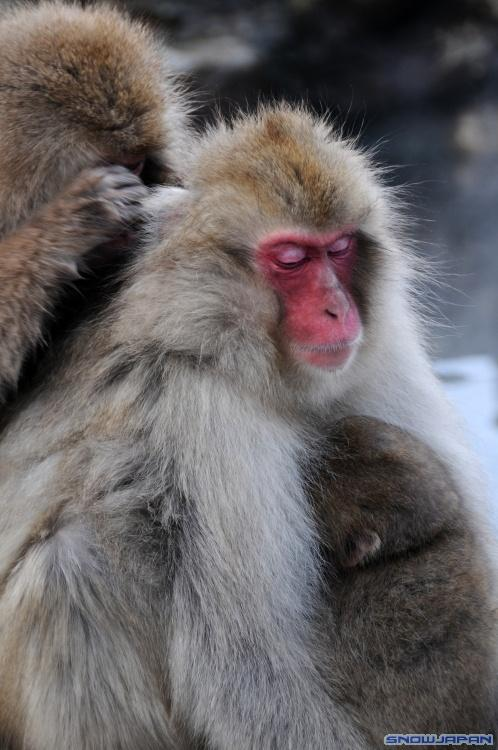monkey: (0, 100, 498, 750)
